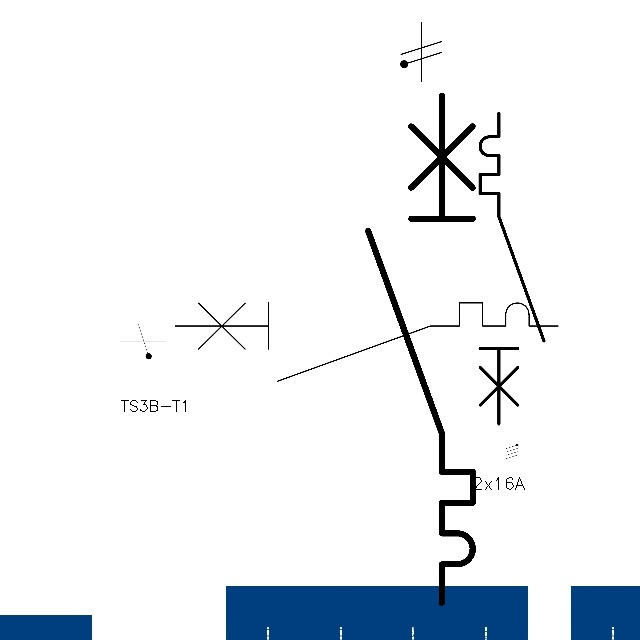interruptor_termomagnetico: (355, 82, 486, 616), (165, 293, 568, 391), (472, 105, 552, 432)
